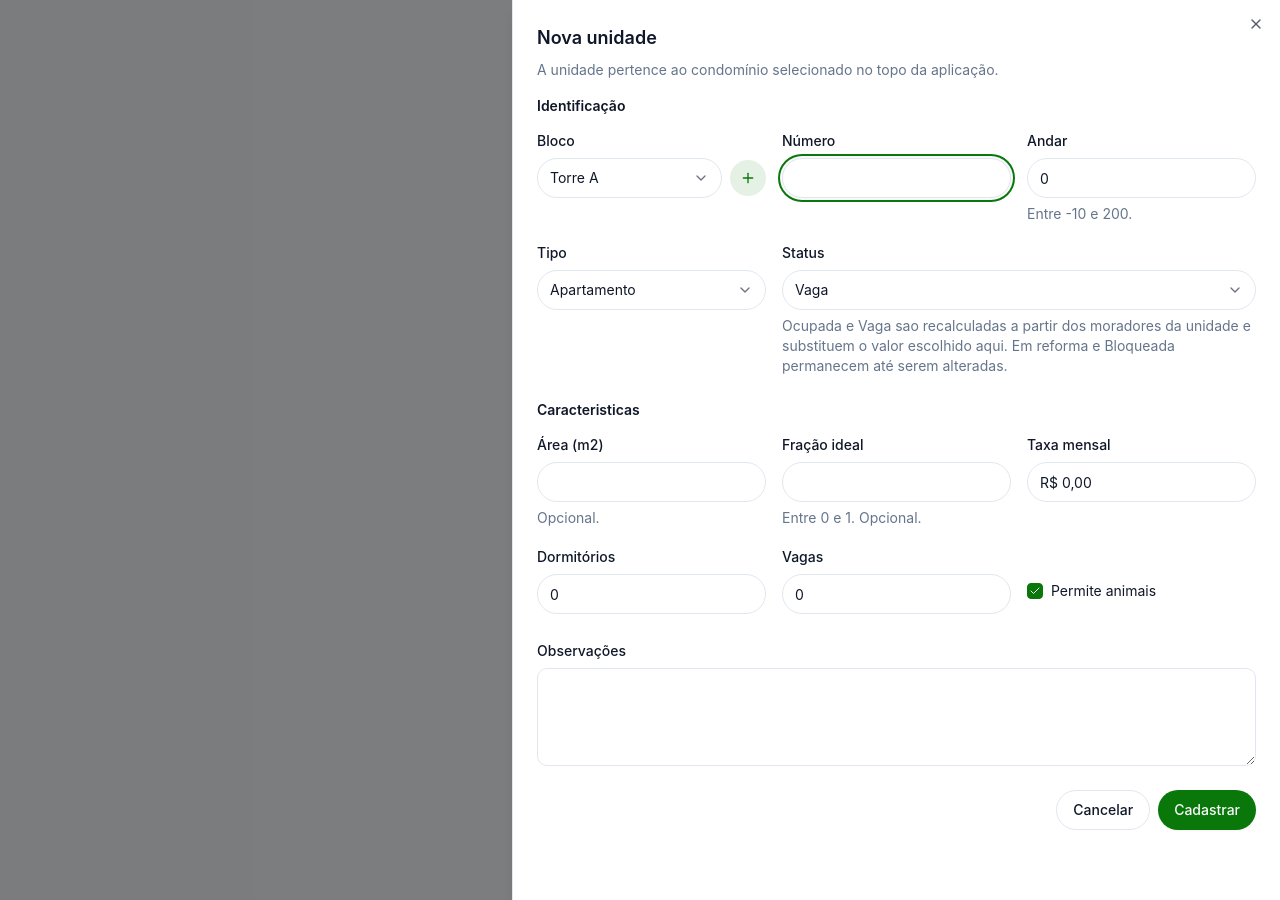
Scenario: Cadastro de unidade › IT-053: 409 de número duplicado aparece no formulário e preserva o preenchido
Step 1. Type "101" into the field labelled "Número" → {"x": 896, "y": 178}, box 782,158 -> 1011,198
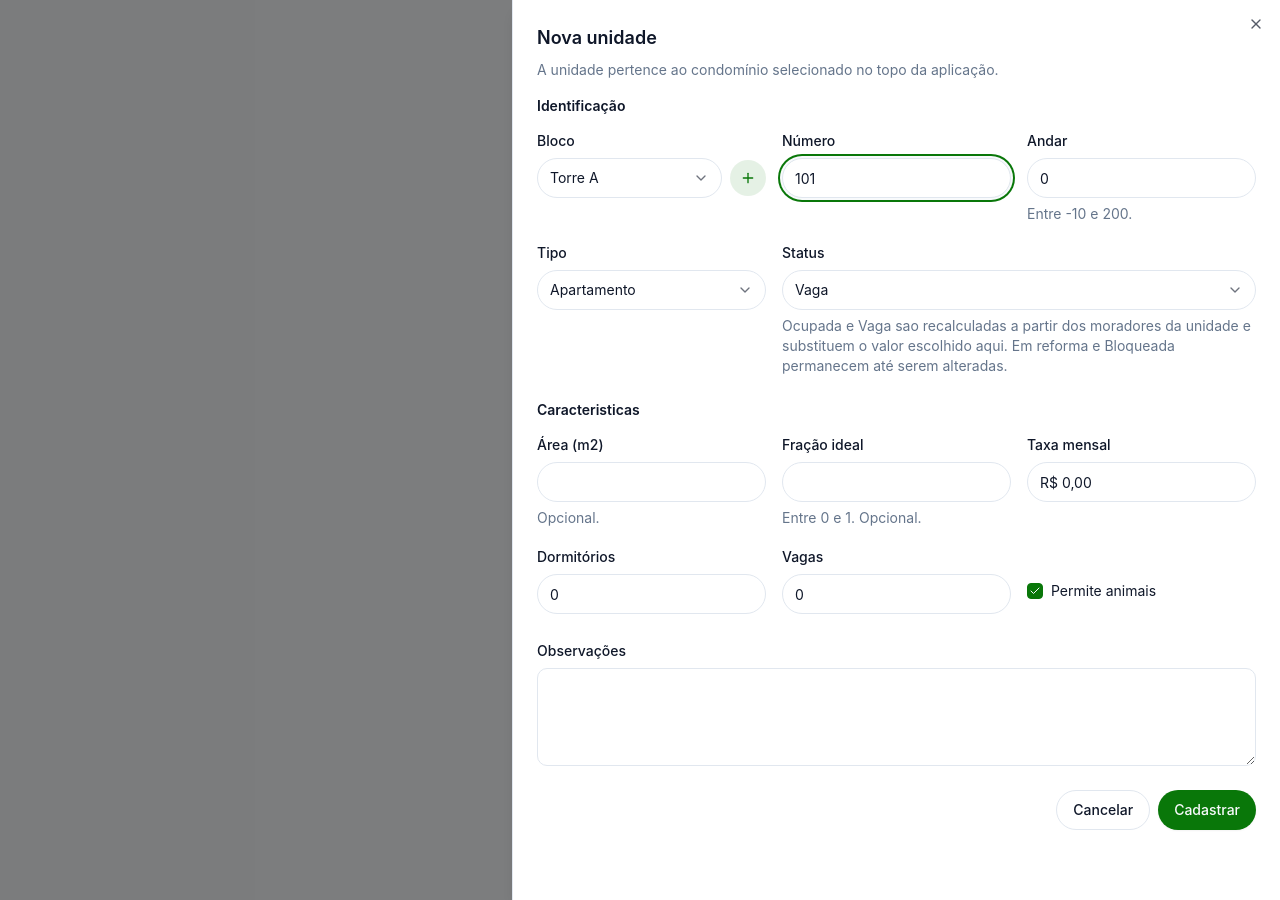
Step 2. Click the button "Cadastrar" → {"x": 1207, "y": 810}, box 1158,790 -> 1256,830
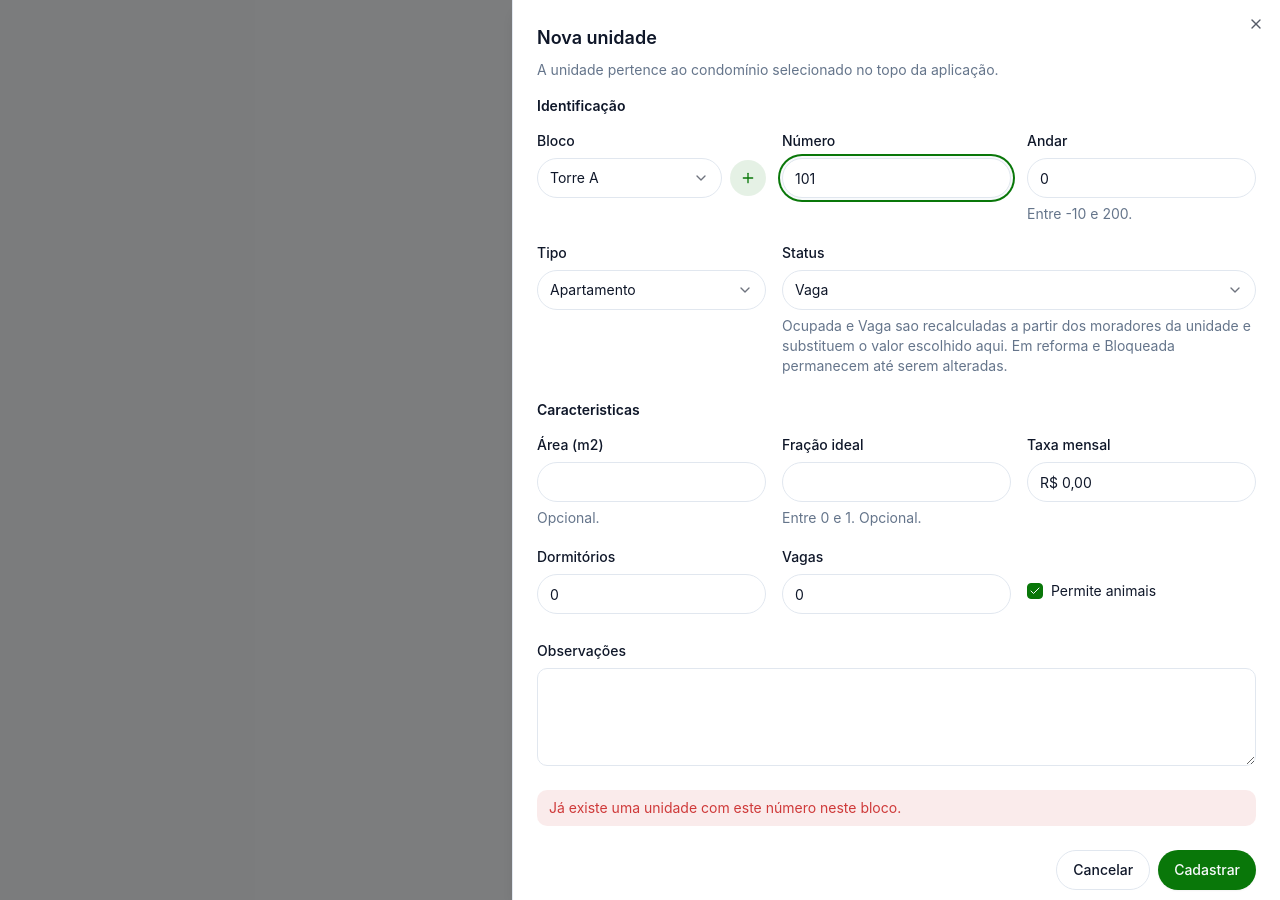
Expected: the dialog is shown, 512,0 -> 1279,899
Now the text "Já existe uma unidade com este número neste bloco." is shown, box 549,799 -> 901,816
